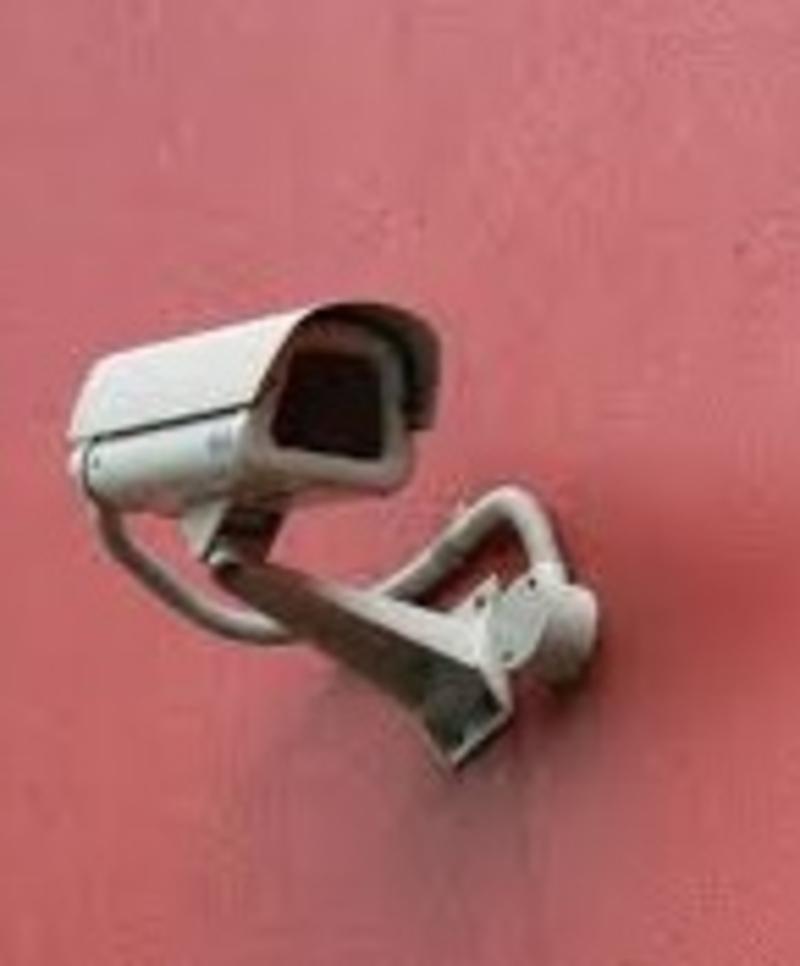box: (39, 296, 448, 521)
